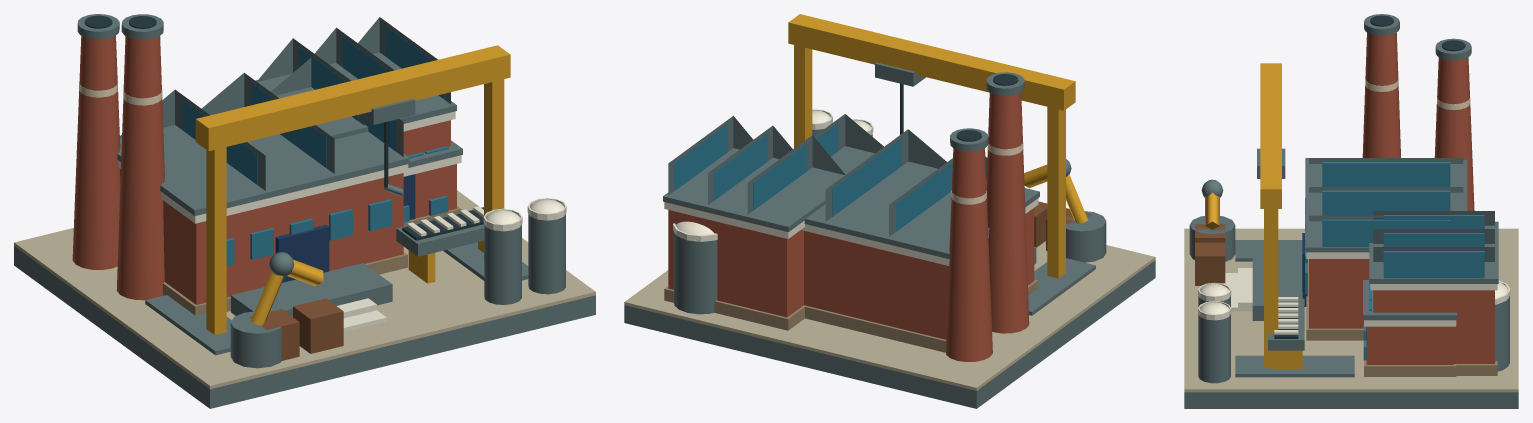
Rendered from factory-lv4.glb.
3 renders of one model, left to right at view 1: azimuth 30°, elevation 25°; view 2: azimuth 150°, elevation 25°; view 3: azimuth 270°, elevation 25°, orthographic. The views are drawn at different scales.
Visible parts, largest first — view 1: chimney_clay, foundation_paving, main_workshop_clay, foundation_iron, gantry_beam_ochre, main_workshop_roof_iron, gantry_posts_ochre, material_silos_iron, loading_platform_iron, main_workshop_sawtooth_iron, supply_crates_wood, main_workshop_skylights_glass (+23 smaller); view 2: chimney_clay, foundation_paving, main_workshop_clay, foundation_iron, gantry_beam_ochre, second_workshop_clay, main_workshop_roof_iron, second_workshop_roof_iron, gantry_posts_ochre, second_workshop_skylights_glass, main_workshop_skylights_glass, main_workshop_sawtooth_iron (+16 smaller); view 3: foundation_paving, main_workshop_skylights_glass, chimney_clay, foundation_iron, second_workshop_skylights_glass, second_workshop_clay, main_workshop_clay, warehouse_clay, gantry_beam_ochre, gantry_foot_iron, main_workshop_roof_iron, material_silos_iron (+24 smaller).
Boxes of the visible parts, x1,y1,x2,y2 form: chimney_clay: (72, 36, 164, 300); foundation_paving: (14, 190, 595, 389); main_workshop_clay: (120, 169, 403, 304); foundation_iron: (14, 246, 595, 408); gantry_beam_ochre: (195, 45, 510, 151); main_workshop_roof_iron: (117, 125, 409, 215); gantry_posts_ochre: (206, 79, 504, 334); material_silos_iron: (484, 214, 565, 304); loading_platform_iron: (231, 263, 392, 316); main_workshop_sawtooth_iron: (120, 58, 403, 190); supply_crates_wood: (249, 298, 343, 360); main_workshop_skylights_glass: (182, 83, 395, 185); chimney_clay: (946, 92, 1029, 361); foundation_paving: (624, 241, 1155, 390); main_workshop_clay: (804, 208, 1034, 339); foundation_iron: (624, 260, 1155, 408); gantry_beam_ochre: (788, 14, 1075, 110); second_workshop_clay: (668, 210, 803, 317); main_workshop_roof_iron: (804, 146, 1039, 259); second_workshop_roof_iron: (663, 148, 846, 231); gantry_posts_ochre: (794, 45, 1065, 278); second_workshop_skylights_glass: (674, 124, 807, 210); main_workshop_skylights_glass: (816, 123, 952, 231); main_workshop_sawtooth_iron: (814, 114, 987, 236); foundation_paving: (1184, 228, 1518, 392); main_workshop_skylights_glass: (1322, 162, 1450, 246); chimney_clay: (1362, 32, 1474, 210); foundation_iron: (1184, 392, 1518, 408); second_workshop_skylights_glass: (1383, 215, 1484, 278); second_workshop_clay: (1373, 290, 1494, 363); main_workshop_clay: (1309, 259, 1369, 328); warehouse_clay: (1366, 326, 1453, 364); gantry_beam_ochre: (1260, 63, 1281, 208); gantry_foot_iron: (1235, 240, 1354, 377); main_workshop_roof_iron: (1305, 158, 1467, 252); material_silos_iron: (1198, 296, 1230, 383).
Size of the model in its own units: 1 by 0.7197 by 0.88.
